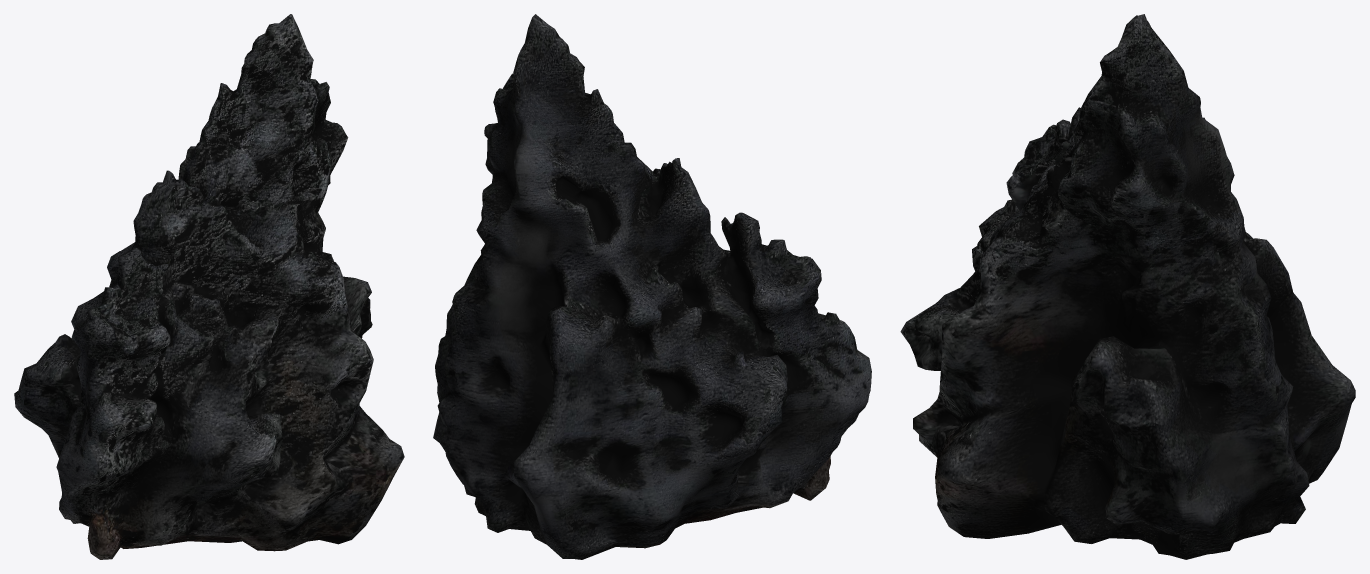
Rendered from selected.fbx.
3 views of the same model, side by side, from view 1: azimuth 30°, elevation 25°; view 2: azimuth 150°, elevation 25°; view 3: azimuth 270°, elevation 25° (orthographic). The views are drawn at different scales.
Parts seen in each view (by area): view 1: tripo_node_c47ec60f-9209-4ced-a95b-41a8521e4e66; view 2: tripo_node_c47ec60f-9209-4ced-a95b-41a8521e4e66; view 3: tripo_node_c47ec60f-9209-4ced-a95b-41a8521e4e66.
Part boxes in pixels (box(x1,y1,x2,y2)): tripo_node_c47ec60f-9209-4ced-a95b-41a8521e4e66: box(14, 14, 404, 559); tripo_node_c47ec60f-9209-4ced-a95b-41a8521e4e66: box(433, 14, 871, 559); tripo_node_c47ec60f-9209-4ced-a95b-41a8521e4e66: box(900, 14, 1355, 559).
Size of the model in its own units: 0.8027 by 0.998 by 0.7715.
Materials: 1 (1 with a texture image).
